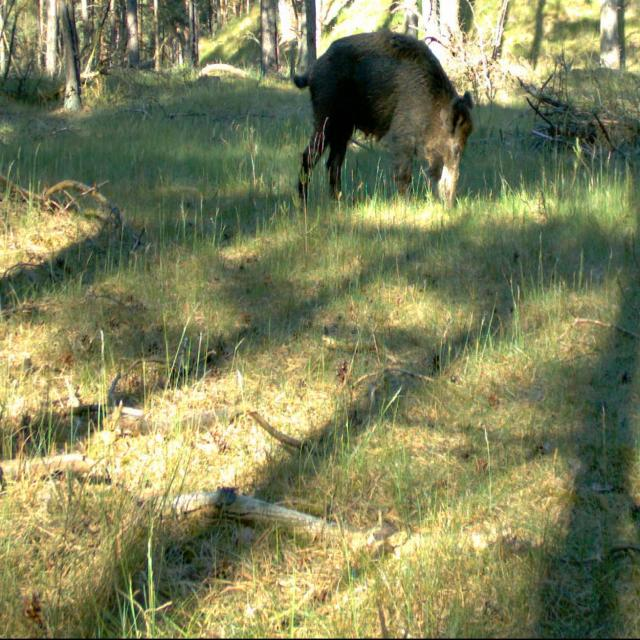pig: (291, 14, 479, 245)
